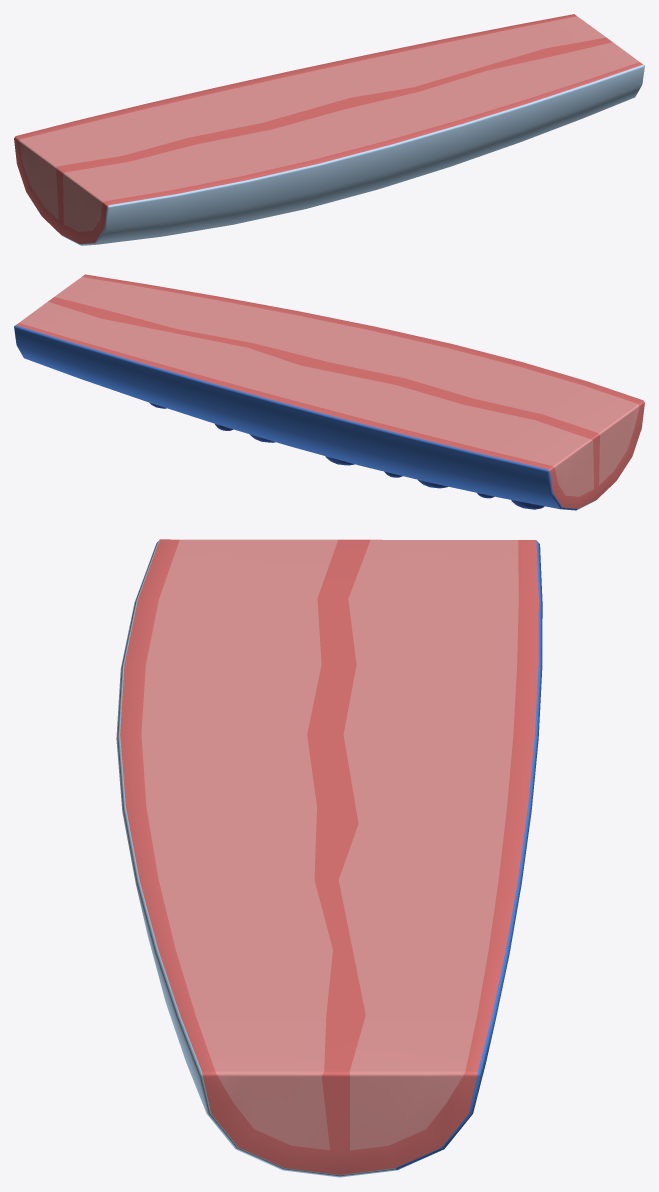
Rendered from Sardine_1_Fillet_1.fbx.
3 renders of one model, top to bottom at view 1: azimuth 30°, elevation 25°; view 2: azimuth 150°, elevation 25°; view 3: azimuth 270°, elevation 25°, orthographic. The views are drawn at different scales.
Visible parts, largest first — view 1: Sardine_1_Fillet_1; view 2: Sardine_1_Fillet_1; view 3: Sardine_1_Fillet_1.
Boxes of the visible parts, left/top/right/bottom form: Sardine_1_Fillet_1: left=14, top=14, right=644, bottom=245; Sardine_1_Fillet_1: left=14, top=274, right=644, bottom=510; Sardine_1_Fillet_1: left=116, top=539, right=542, bottom=1177.
Bounding box in the file's own units: 15.07 × 2.01 × 5.07.
